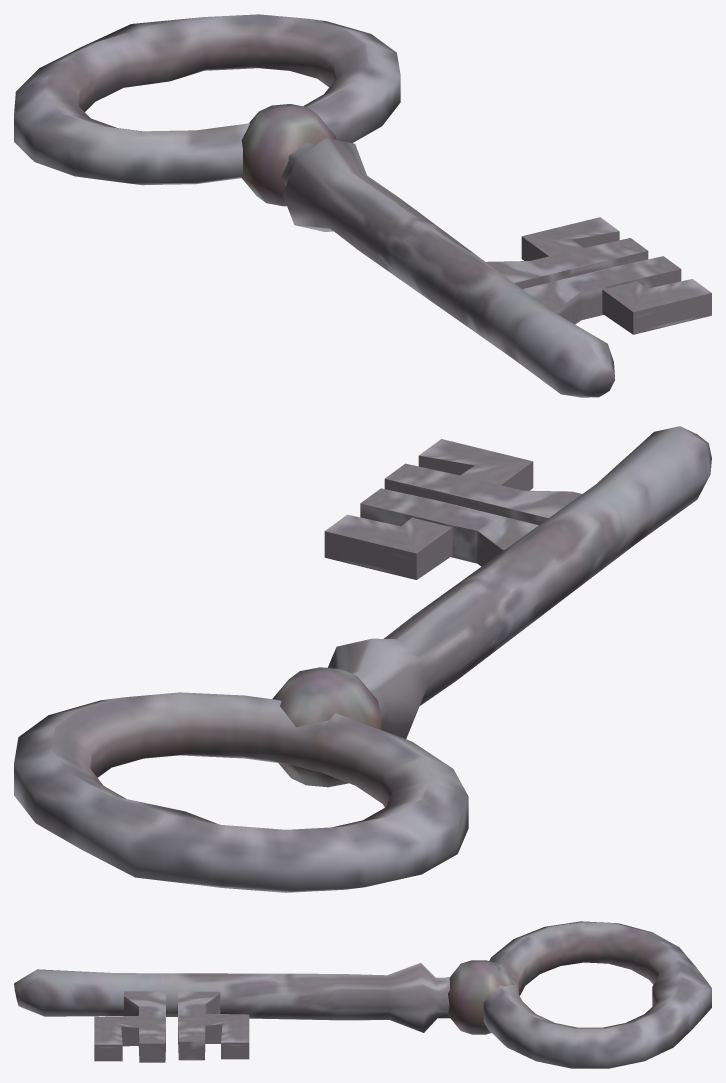
File: key.glb
The picture shows the model from 3 angles, top to bottom: view 1: azimuth 30°, elevation 25°; view 2: azimuth 150°, elevation 25°; view 3: azimuth 270°, elevation 25°; orthographic projection. The views are drawn at different scales.
Parts seen in each view (by area): view 1: Key_Metal; view 2: Key_Metal; view 3: Key_Metal.
Boxes of the visible parts, box(x1,y1,x2,y2) form: Key_Metal: box(14, 14, 711, 397); Key_Metal: box(14, 426, 711, 892); Key_Metal: box(14, 921, 711, 1068).
Size of the model in its own units: 0.048 by 0.0124 by 0.111.
Materials: 1 (1 with a texture image).
